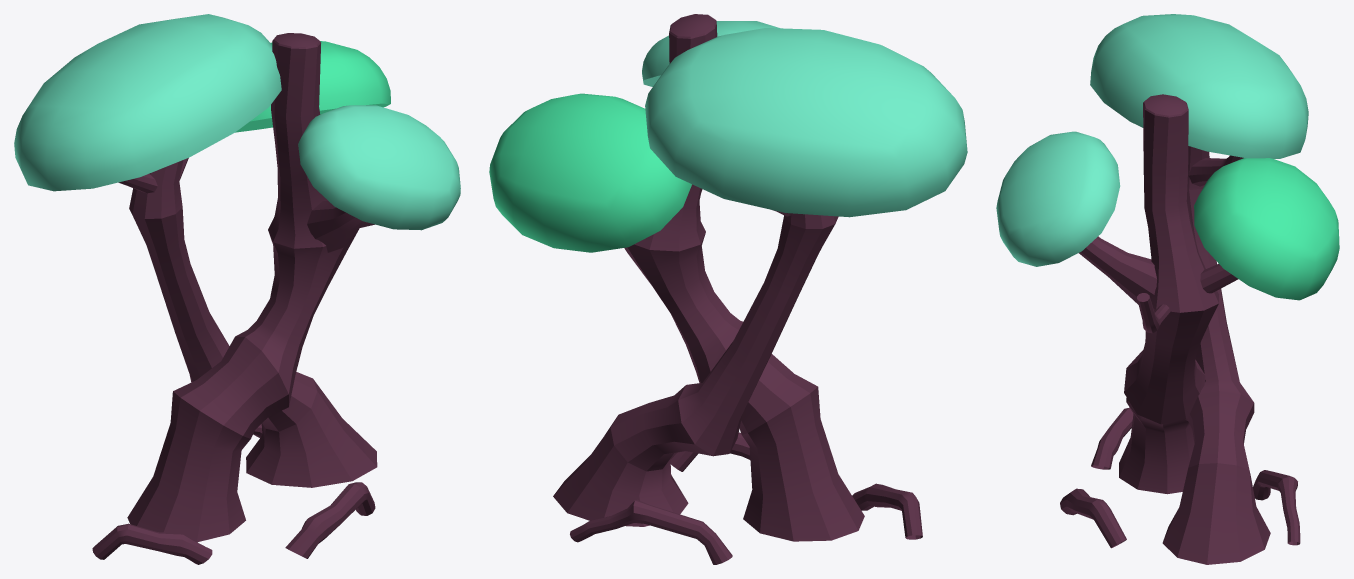
File: ArbreMere_Inter02.fbx
3 renders of one model, left to right at view 1: azimuth 30°, elevation 25°; view 2: azimuth 150°, elevation 25°; view 3: azimuth 270°, elevation 25°, orthographic. The views are drawn at different scales.
Visible parts, largest first — view 1: ArbreMere_Inter02; view 2: ArbreMere_Inter02; view 3: ArbreMere_Inter02.
Boxes of the visible parts, bbox=[...] form: ArbreMere_Inter02: bbox=[14, 14, 460, 564]; ArbreMere_Inter02: bbox=[489, 14, 967, 564]; ArbreMere_Inter02: bbox=[996, 14, 1339, 564].
Bounding box in the file's own units: 654 × 754 × 524.
